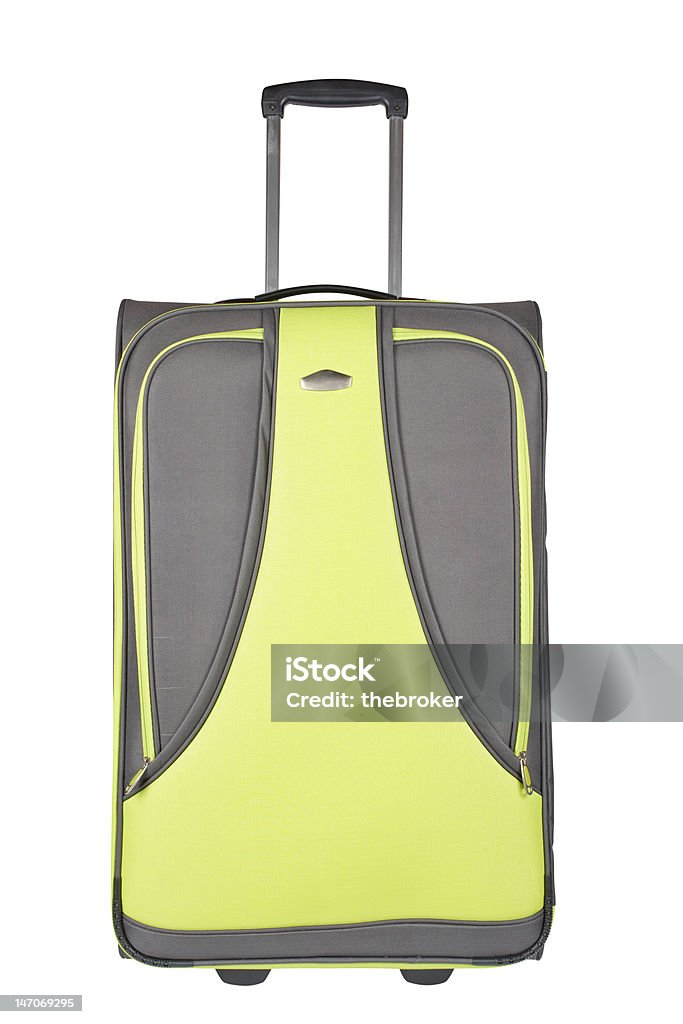Bag: (101, 70, 564, 998)
Handle: (246, 71, 410, 298)
